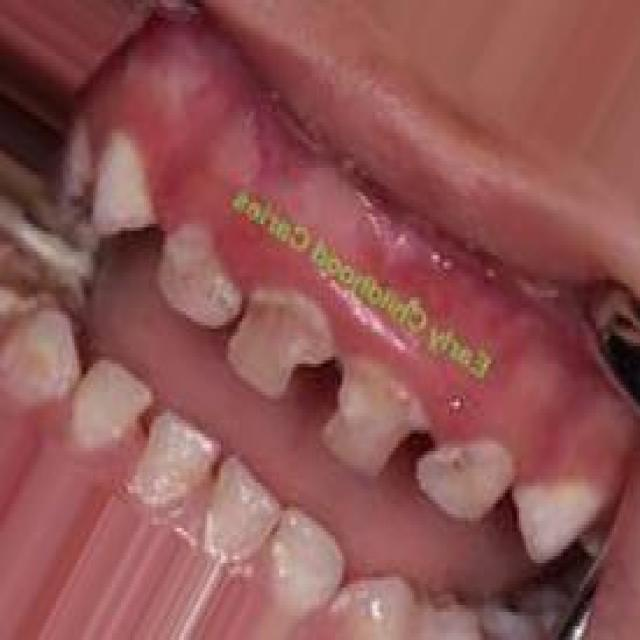caries: (315, 347, 414, 481), (228, 279, 330, 399), (415, 424, 517, 534), (152, 220, 238, 336)
